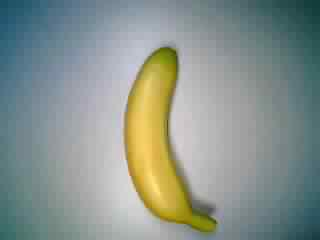banana: (116, 43, 222, 235)
